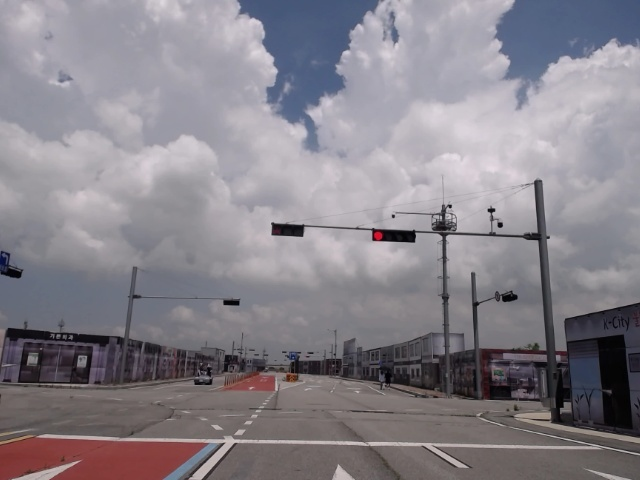red_4: (372, 229, 415, 243)
